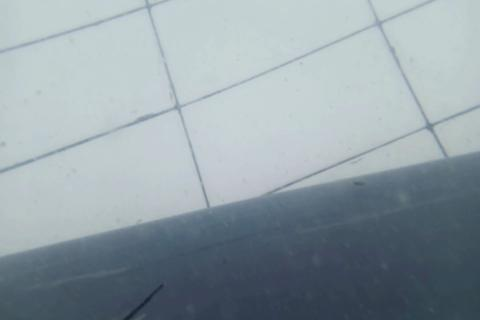keretakan: (124, 282, 164, 319)
